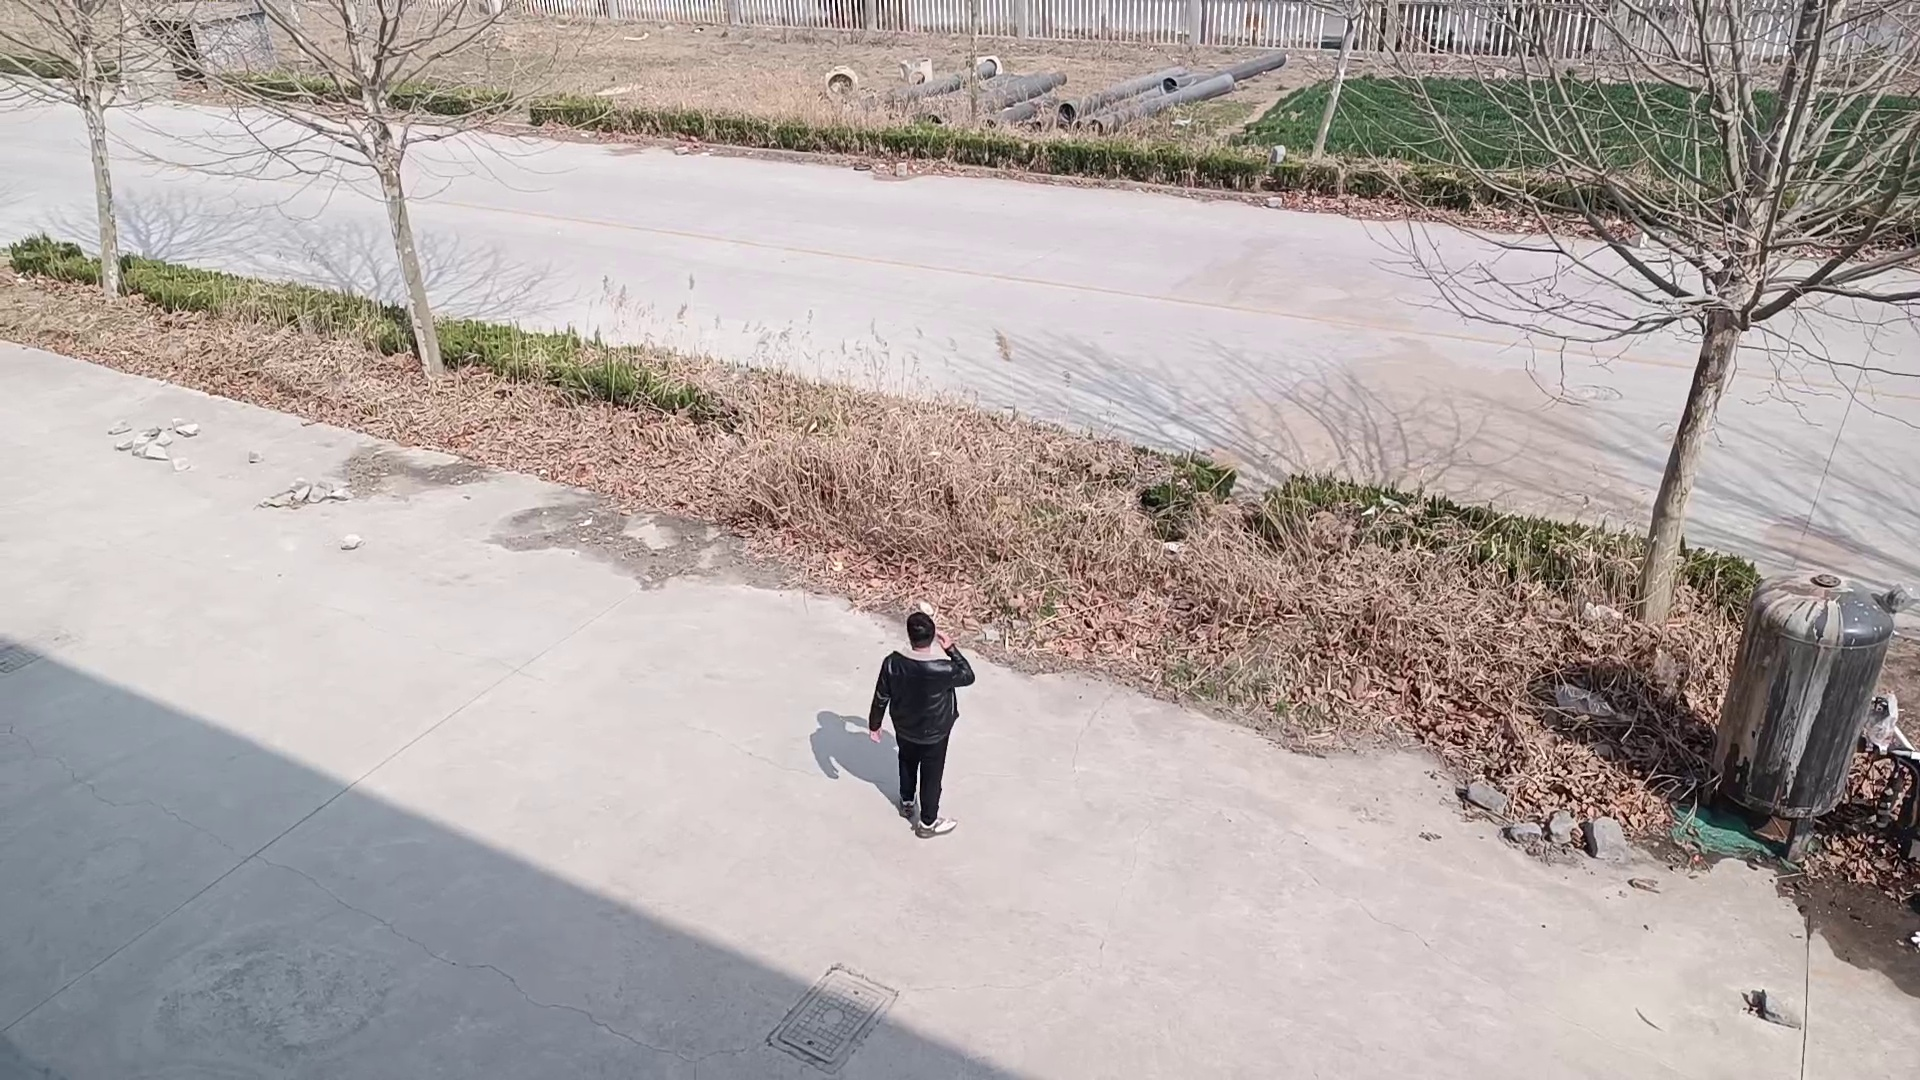phone: (901, 599, 956, 661)
